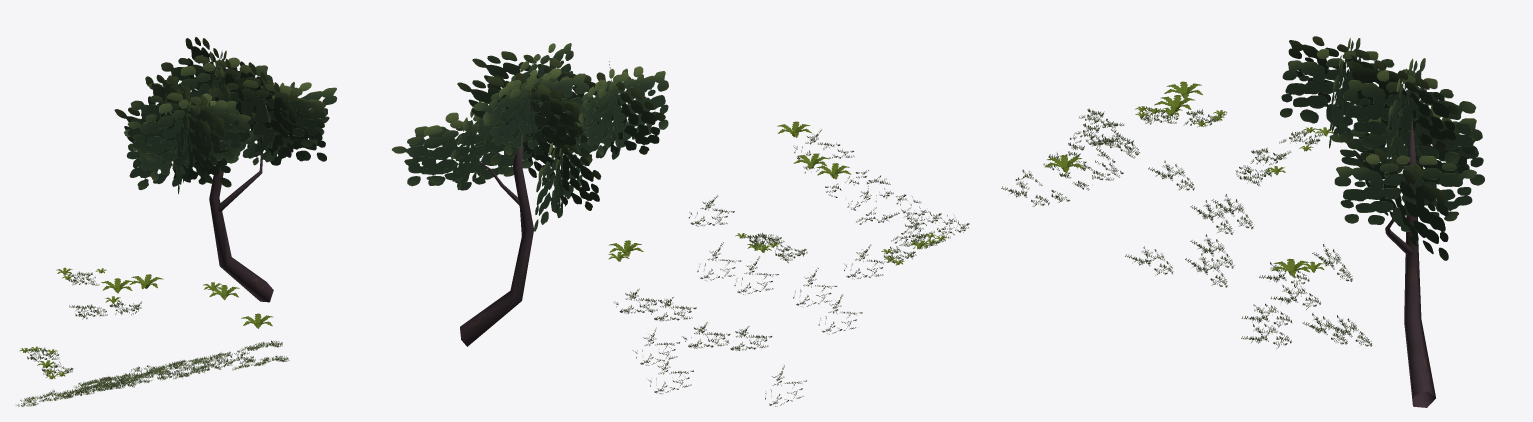
Rendered from Pantano02.fbx.
3 renders of one model, left to right at view 1: azimuth 30°, elevation 25°; view 2: azimuth 150°, elevation 25°; view 3: azimuth 270°, elevation 25°, orthographic. The views are drawn at different scales.
Visible parts, largest first — view 1: Pantano02; view 2: Pantano02; view 3: Pantano02.
Boxes of the visible parts, <box> form: Pantano02: <box>15,37,337,406</box>; Pantano02: <box>392,43,969,406</box>; Pantano02: <box>1001,36,1484,407</box>.
Size of the model in its own units: 68.09 by 46.79 by 63.81.
